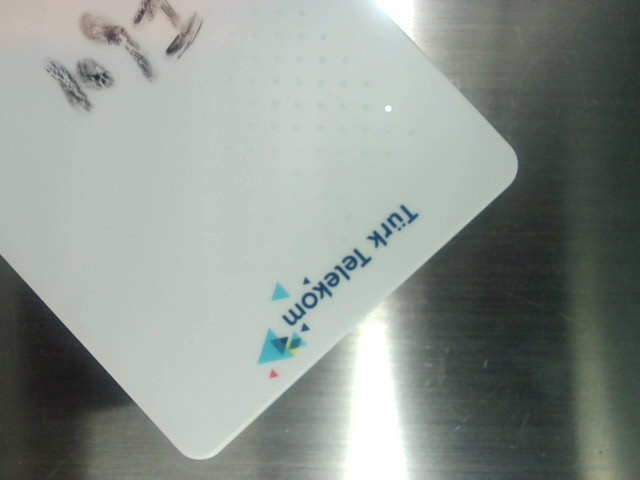AQ_TURKTelekom: (228, 174, 458, 378)
